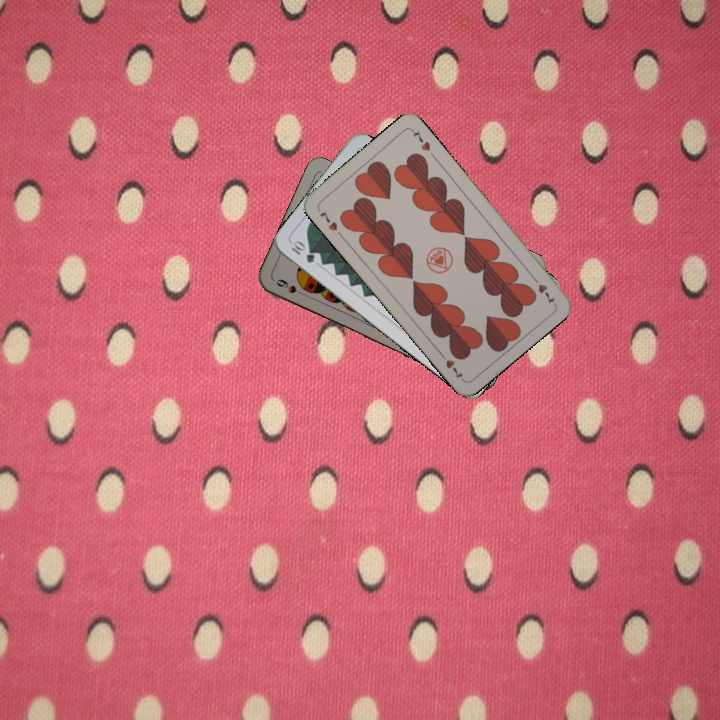G10: (287, 237, 317, 266)
H7: (528, 272, 557, 307), (316, 206, 345, 239)
S9: (272, 275, 309, 299)
